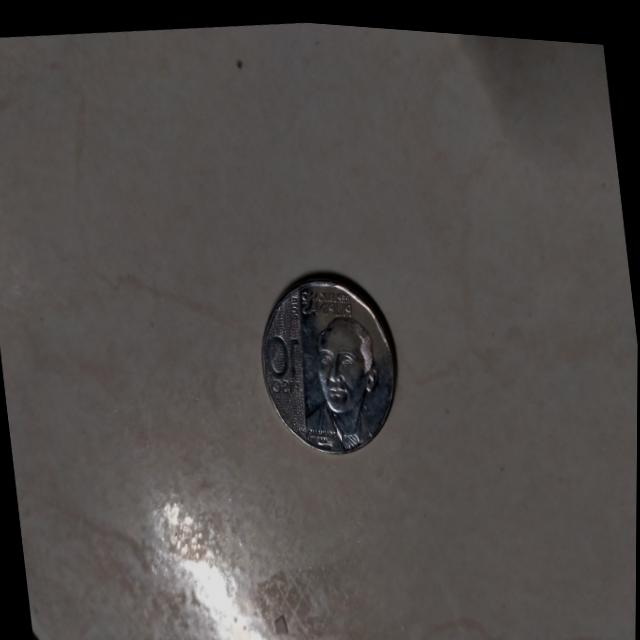10_New_Front: (257, 275, 389, 443)
